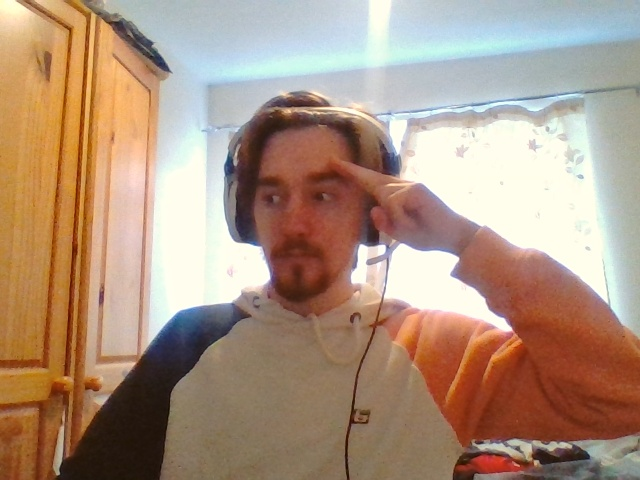name: (329, 156, 434, 250)
